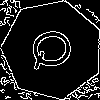Q: (27, 24, 83, 72)
